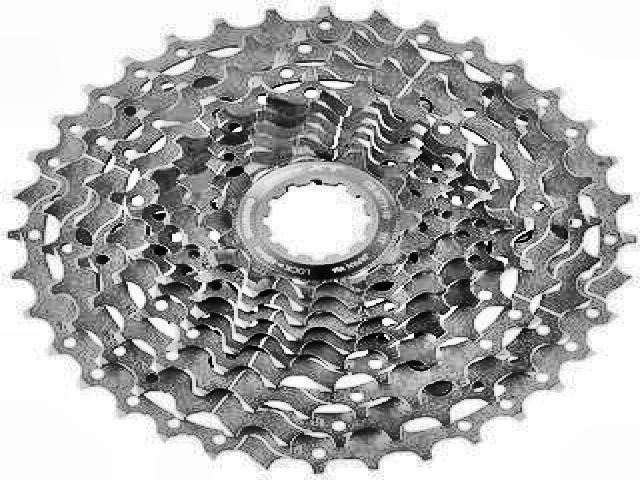cassette: (10, 2, 638, 469)
